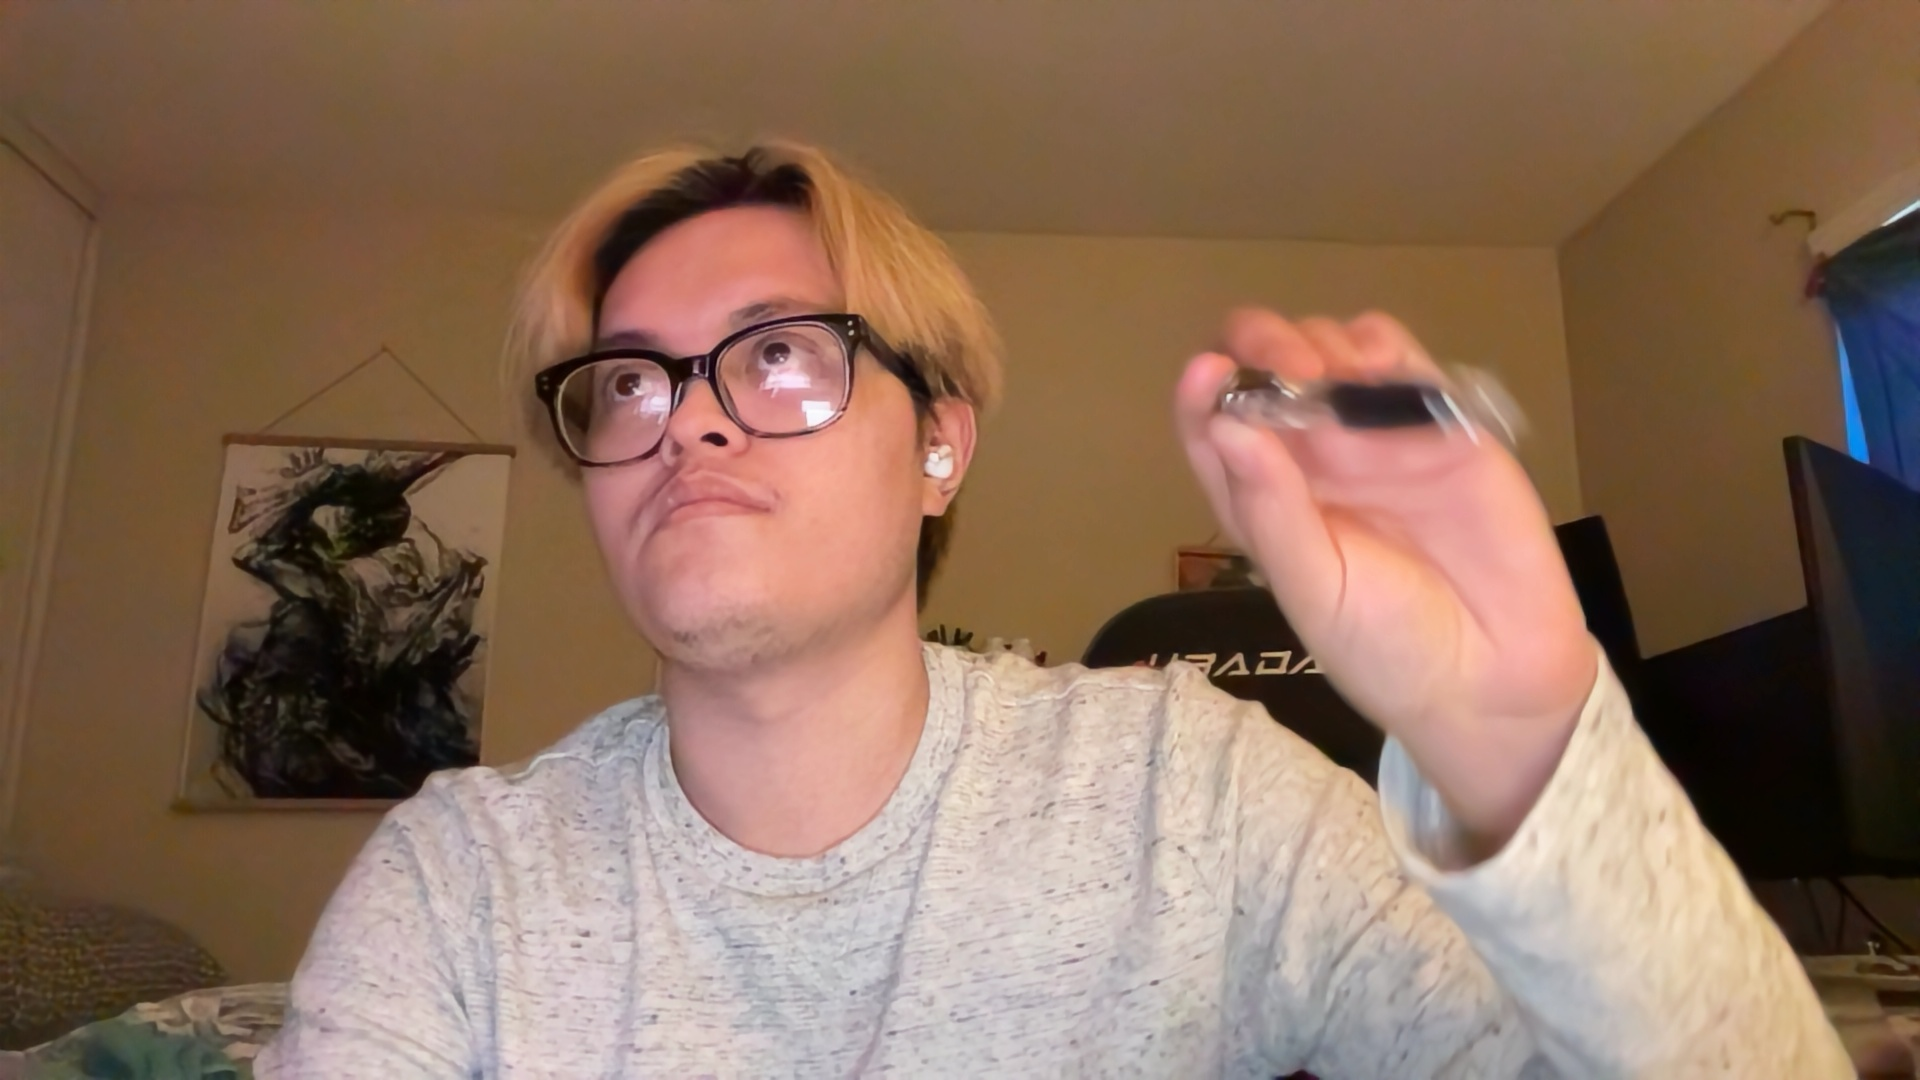pencil: (1213, 353, 1542, 455)
